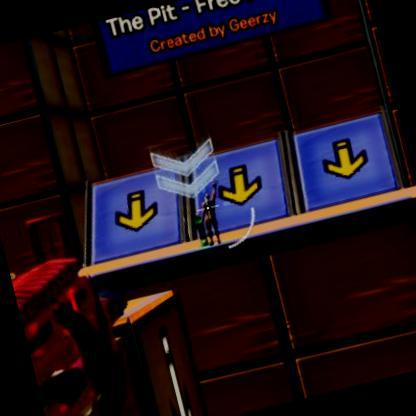person: (201, 195, 220, 236)
